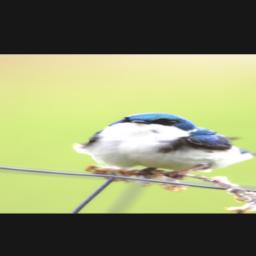Swallow: (71, 112, 256, 180)
